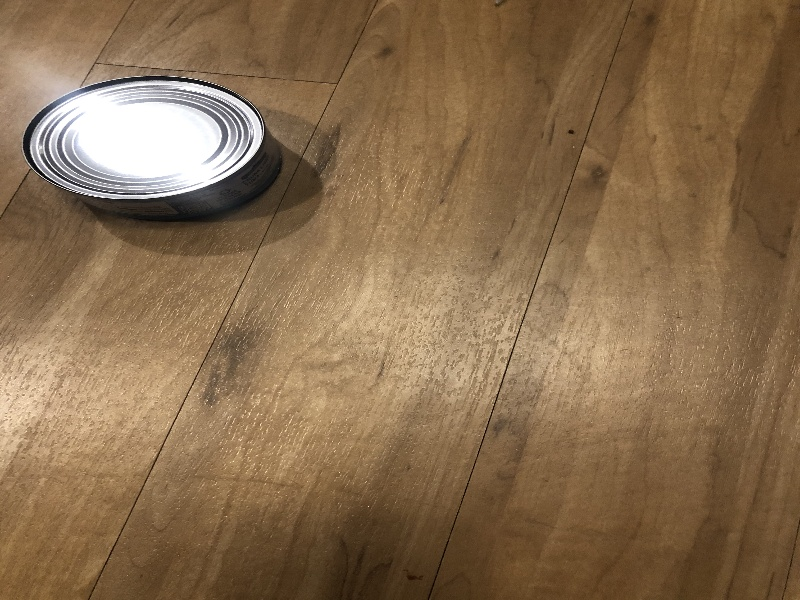metal: (16, 72, 290, 225)
